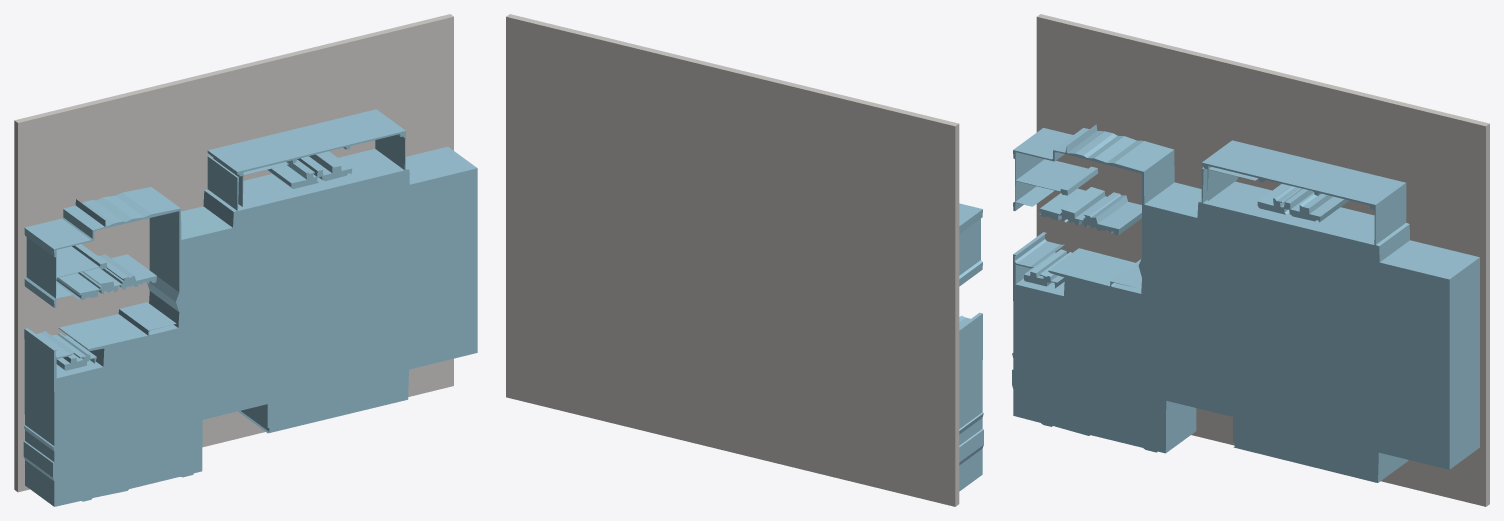
The picture shows the model from 3 angles, left to right: view 1: azimuth 30°, elevation 25°; view 2: azimuth 150°, elevation 25°; view 3: azimuth 330°, elevation 25°; orthographic projection. The views are drawn at different scales.
Parts seen in each view (by area): view 1: world; view 2: world; view 3: world.
Boxes of the visible parts, x1,y1,x2,y2 form: world: (14,14,477,506); world: (506,14,983,506); world: (1012,14,1489,506).
Size of the model in its own units: 10.23 by 8.28 by 1.35.
